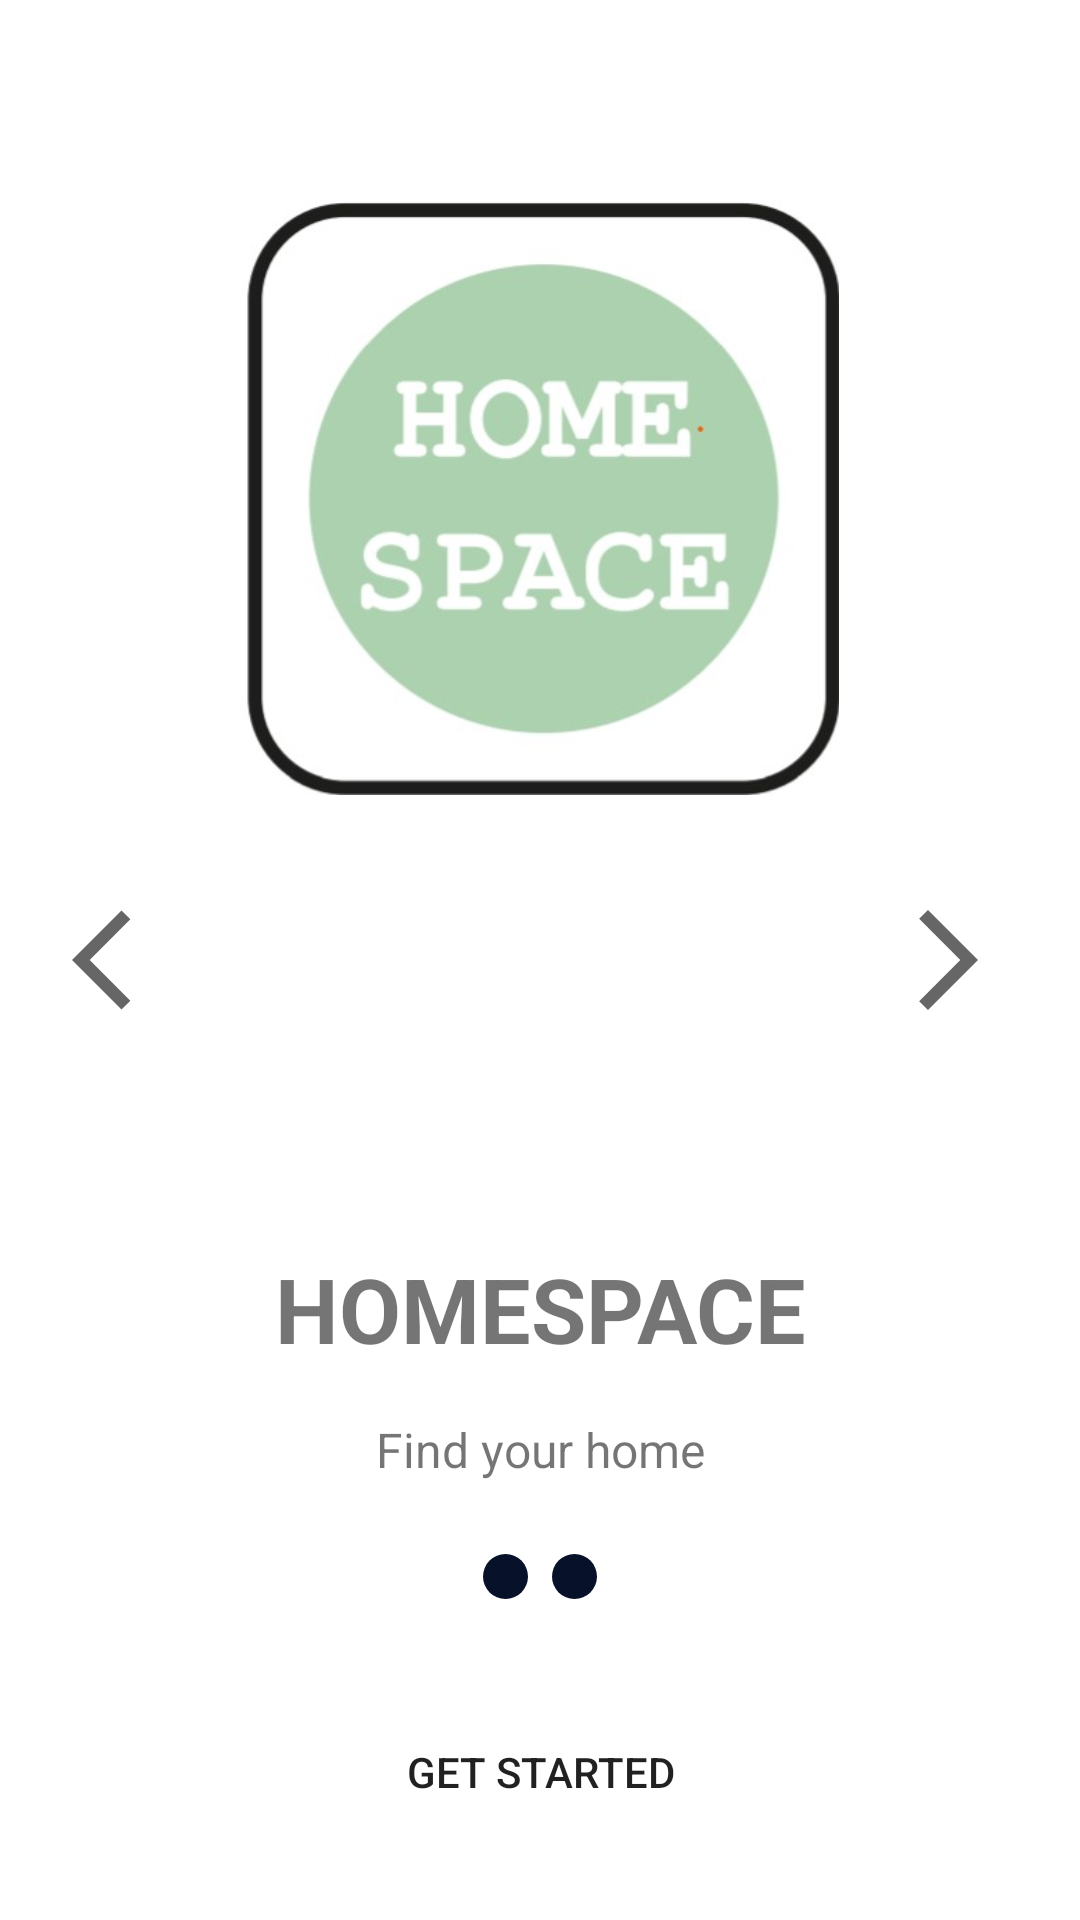

Screen size 1080 x 1920. Icon name, then its box in pixels as (x1, y1, x2, y2):
back: (72, 910, 130, 1010)
forward: (919, 910, 978, 1010)
